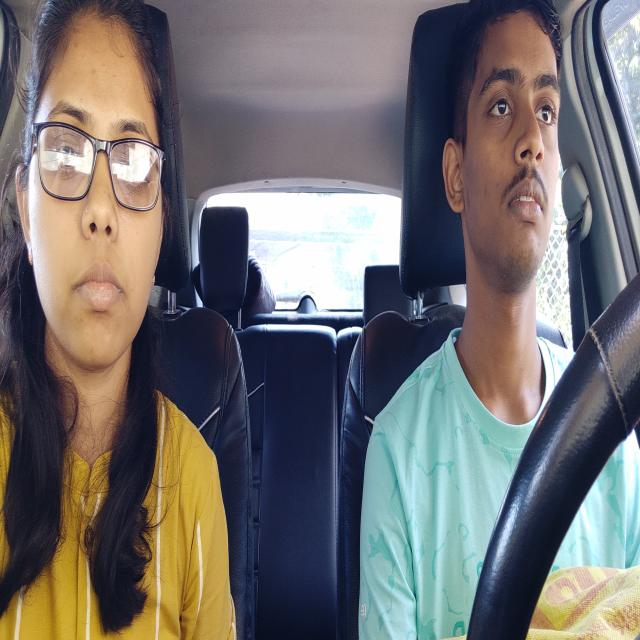person: (12, 0, 172, 374), (442, 0, 561, 311)
